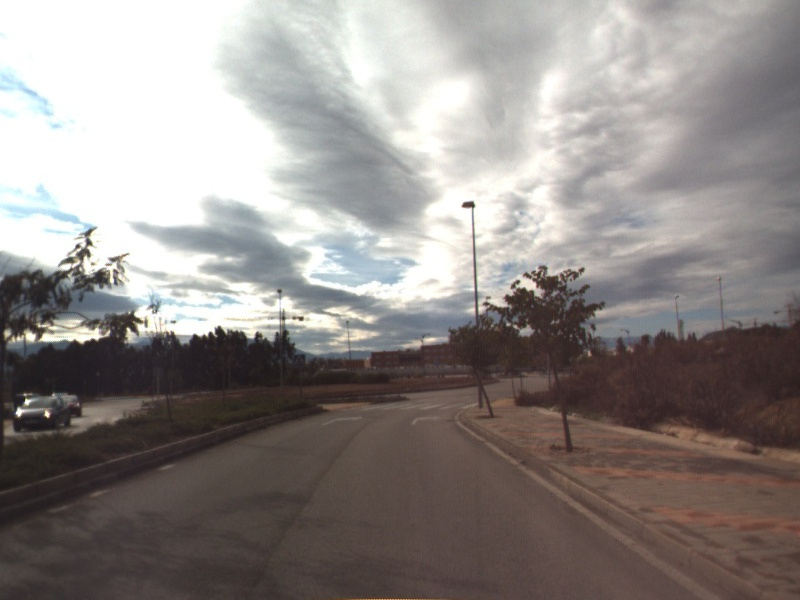RIGHT: (319, 413, 365, 428), (410, 413, 445, 427)
